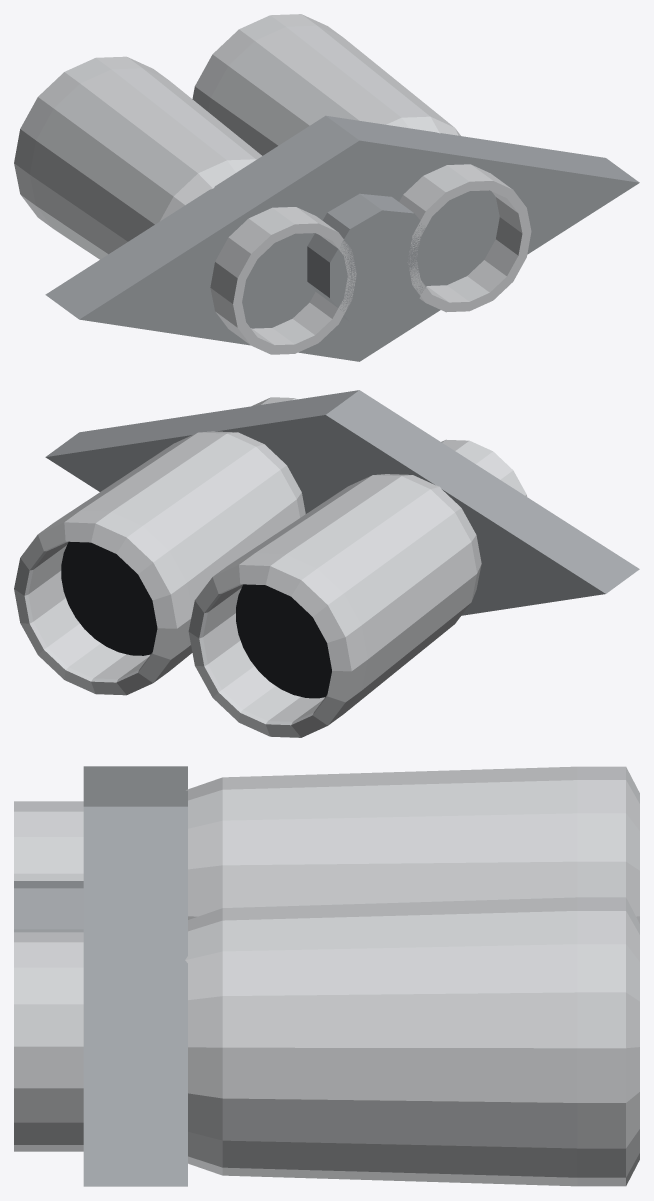
File: streetline_70.glb
3 renders of one model, top to bottom at view 1: azimuth 30°, elevation 25°; view 2: azimuth 150°, elevation 25°; view 3: azimuth 270°, elevation 25°, orthographic. The views are drawn at different scales.
Parts seen in each view (by area): view 1: model; view 2: model; view 3: model.
Part boxes in pixels (<box>): model: <box>14,14,639,361</box>; model: <box>14,390,639,737</box>; model: <box>14,766,639,1186</box>.
Bounding box in the file's own units: 0.2858 × 0.1078 × 0.18.
Materials: 3 (1 with a texture image).
